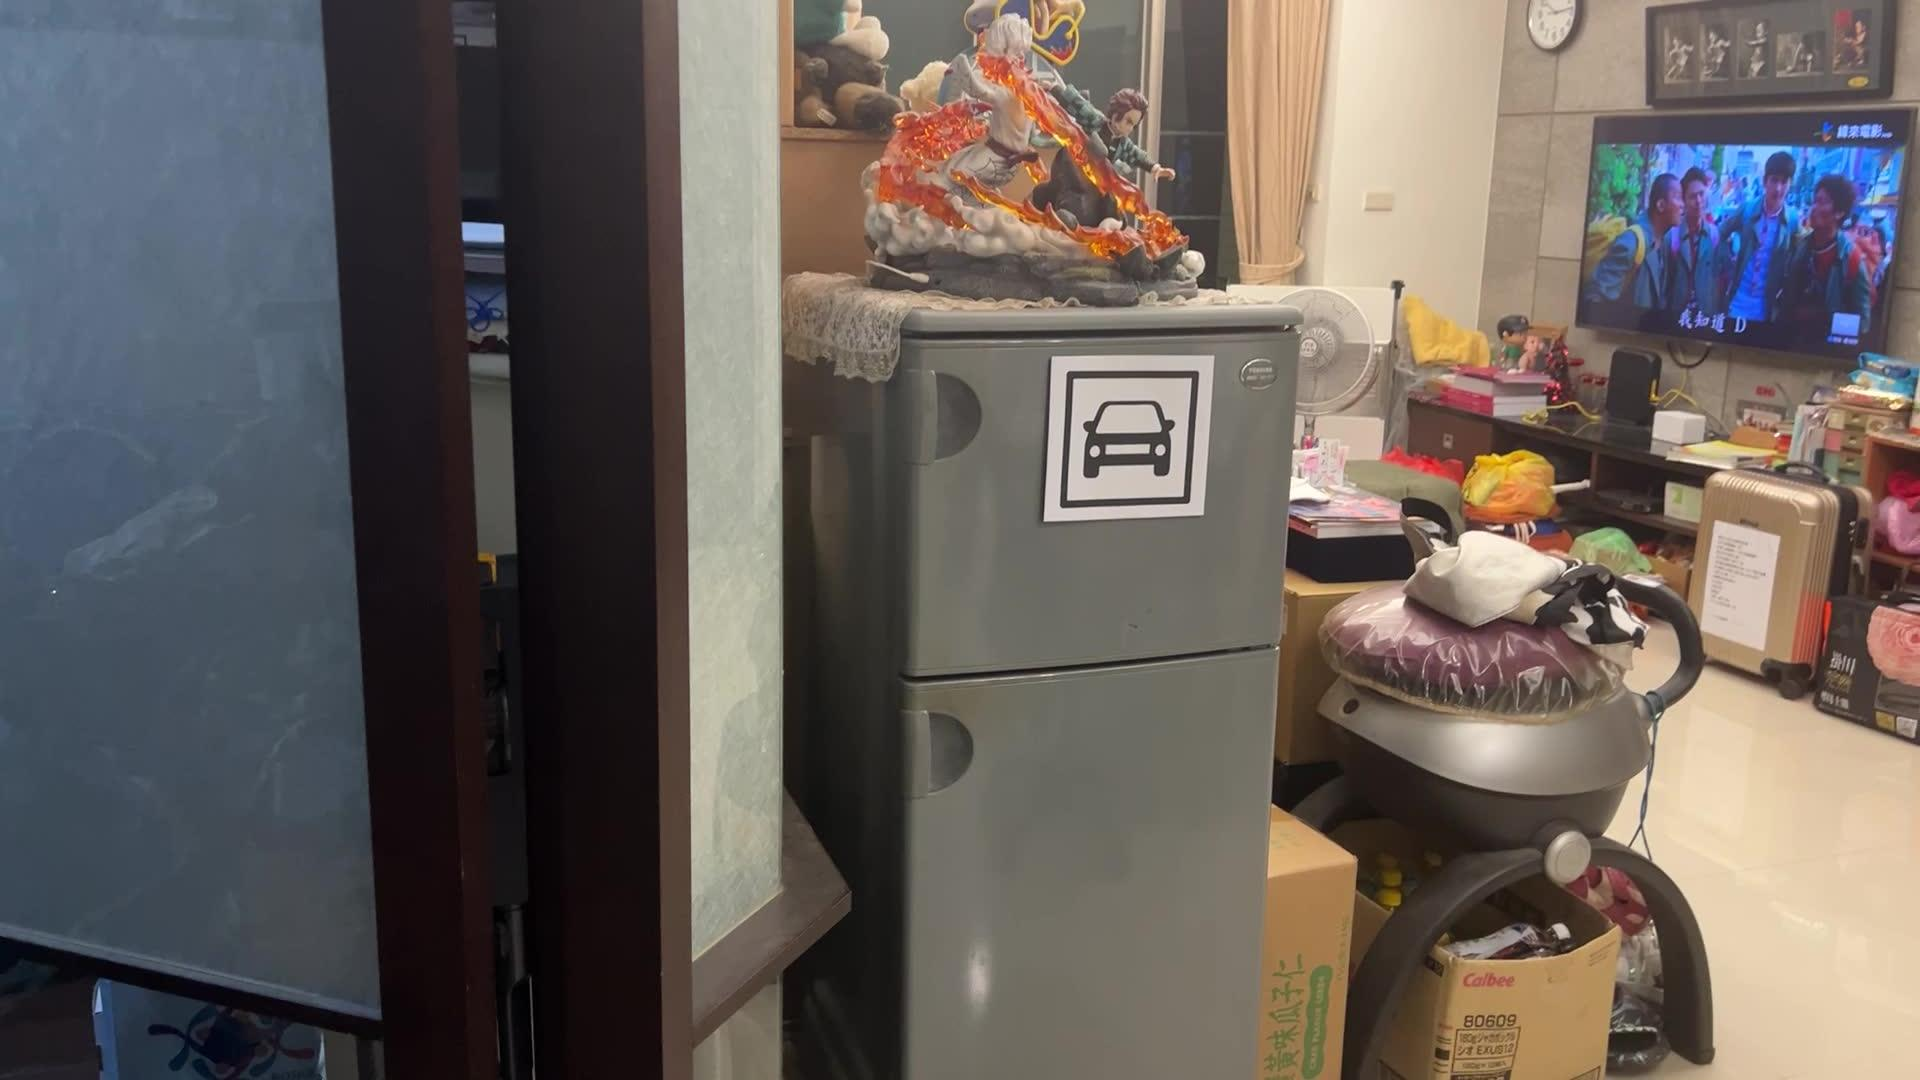car_img: (1059, 368, 1200, 509)
